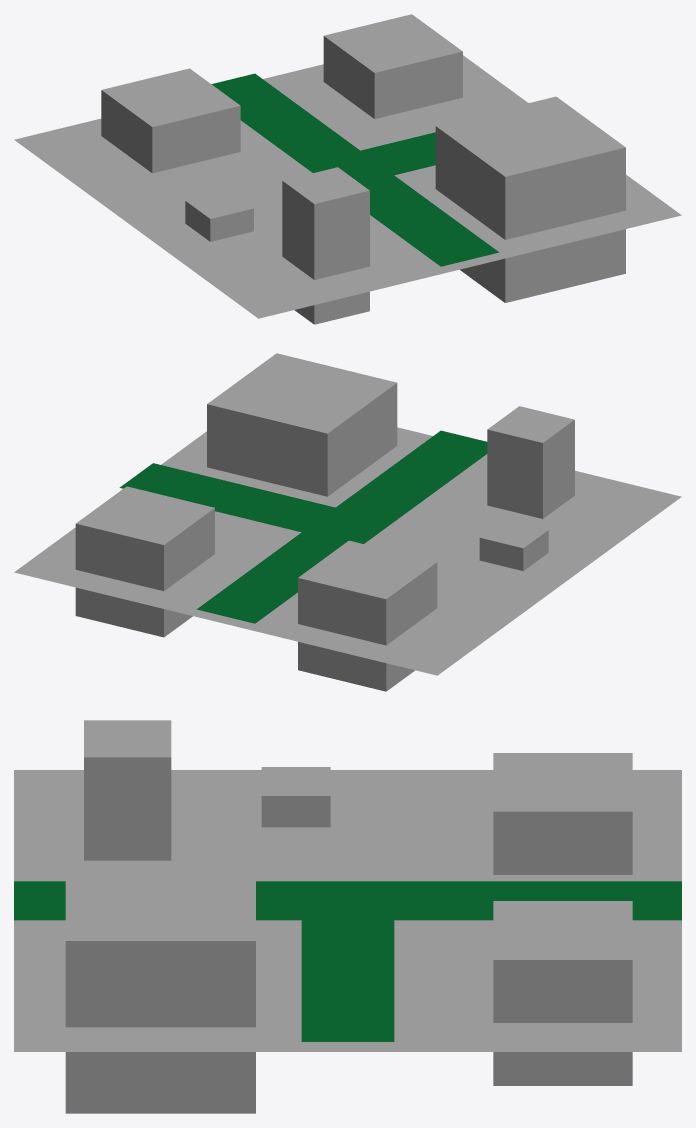
File: street_crossing_001.fbx
3 views of the same model, one above another, from view 1: azimuth 30°, elevation 25°; view 2: azimuth 150°, elevation 25°; view 3: azimuth 270°, elevation 25° (orthographic). The views are drawn at different scales.
Parts seen in each view (by area): view 1: pPlane22, pCube23, pPlane26, pCube25, pCube22, pCube24, pCube21, pPlane27; view 2: pPlane22, pCube23, pCube25, pCube22, pPlane26, pCube24, pPlane27, pCube21; view 3: pPlane22, pCube23, pCube25, pCube22, pPlane26, pCube24, pPlane27, pCube21.
Part boxes in pixels (x1=…): pPlane22: x1=14, y1=55, x2=681, y2=318; pCube23: x1=435, y1=96, x2=625, y2=302; pPlane26: x1=211, y1=73, x2=499, y2=266; pCube25: x1=323, y1=14, x2=462, y2=118; pCube22: x1=101, y1=68, x2=240, y2=173; pCube24: x1=282, y1=167, x2=369, y2=324; pCube21: x1=185, y1=190, x2=253, y2=241; pPlane27: x1=361, y1=132, x2=435, y2=175; pPlane22: x1=14, y1=427, x2=681, y2=675; pCube23: x1=207, y1=353, x2=397, y2=496; pCube25: x1=75, y1=486, x2=214, y2=637; pCube22: x1=298, y1=540, x2=437, y2=691; pPlane26: x1=196, y1=430, x2=487, y2=623; pCube24: x1=487, y1=406, x2=574, y2=518; pPlane27: x1=119, y1=463, x2=335, y2=532; pCube21: x1=479, y1=519, x2=548, y2=571; pPlane22: x1=14, y1=770, x2=681, y2=1051; pCube23: x1=65, y1=860, x2=255, y2=1113; pCube25: x1=493, y1=901, x2=632, y2=1085; pCube22: x1=493, y1=753, x2=632, y2=874; pPlane26: x1=14, y1=881, x2=681, y2=920; pCube24: x1=84, y1=720, x2=171, y2=860; pPlane27: x1=301, y1=920, x2=394, y2=1041; pCube21: x1=261, y1=767, x2=330, y2=827.
Bounding box in the file's own units: 1 × 0.314 × 1.
